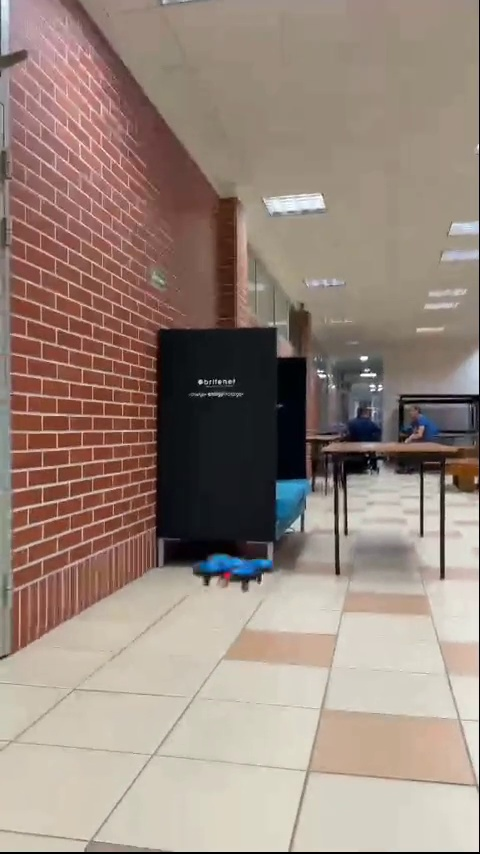drone: (196, 555, 275, 589)
no vest: (398, 405, 444, 446), (341, 401, 382, 446)
